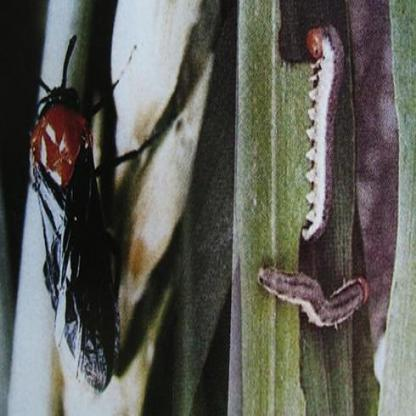sawfly: (10, 29, 188, 397), (297, 19, 349, 247), (255, 256, 372, 334)
